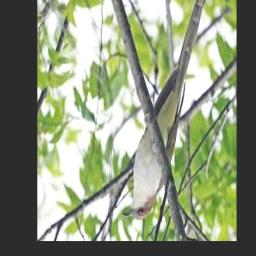Cuckoo: (121, 0, 203, 219)
